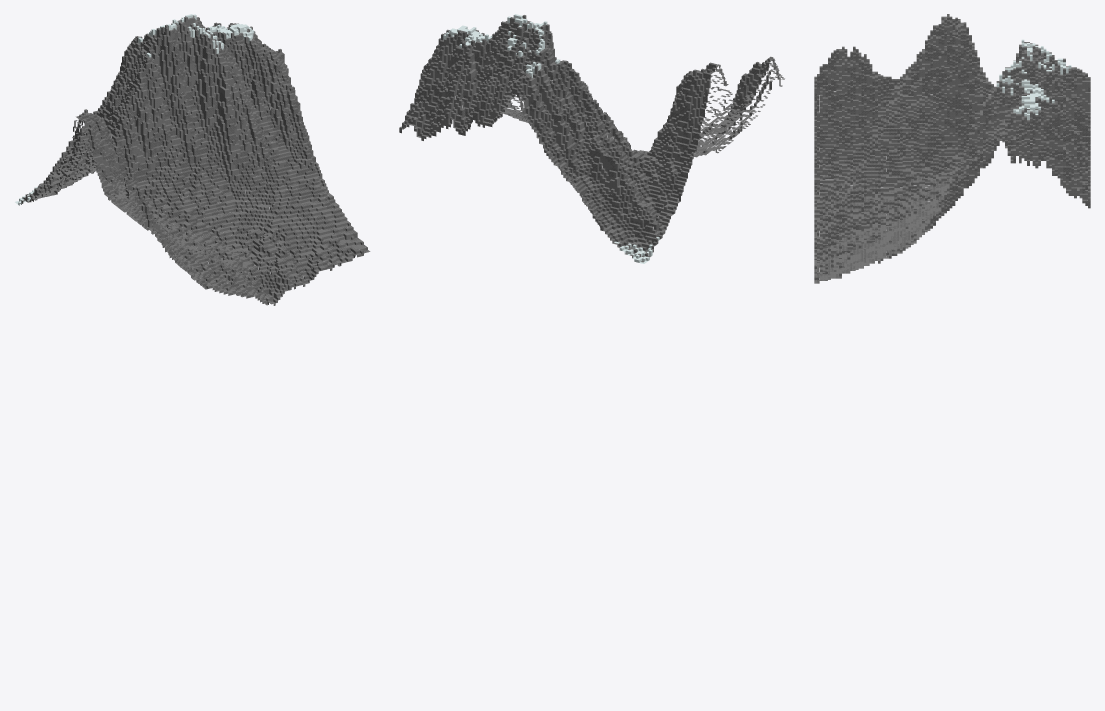
Rendered from chunk3700-200-lvl-1-transformed.glb.
3 renders of one model, left to right at view 1: azimuth 30°, elevation 25°; view 2: azimuth 150°, elevation 25°; view 3: azimuth 270°, elevation 25°, orthographic. The views are drawn at different scales.
Parts seen in each view (by area): view 1: Stone, Cobblestone, Snow_Block; view 2: Cobblestone, Stone, Snow_Block; view 3: Stone, Cobblestone, Snow_Block.
Part boxes in pixels (x1,y1,x2,y2): Stone: (22, 15, 370, 305); Cobblestone: (18, 18, 368, 304); Snow_Block: (15, 14, 254, 205); Cobblestone: (399, 22, 782, 262); Stone: (399, 15, 784, 258); Snow_Block: (443, 14, 659, 263); Stone: (814, 16, 1090, 283); Cobblestone: (814, 14, 1090, 283); Snow_Block: (996, 39, 1071, 119).
Size of the model in its own units: 100 by 242 by 100.
13 materials, 13 textured.
